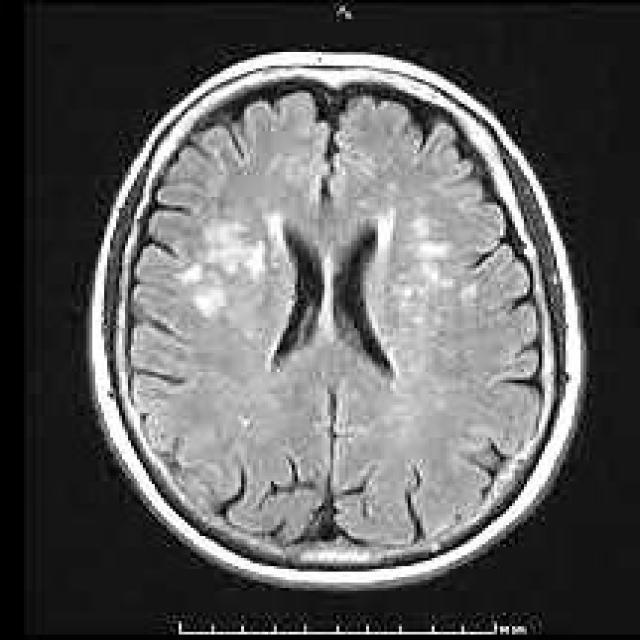notumor: (89, 52, 583, 588)
